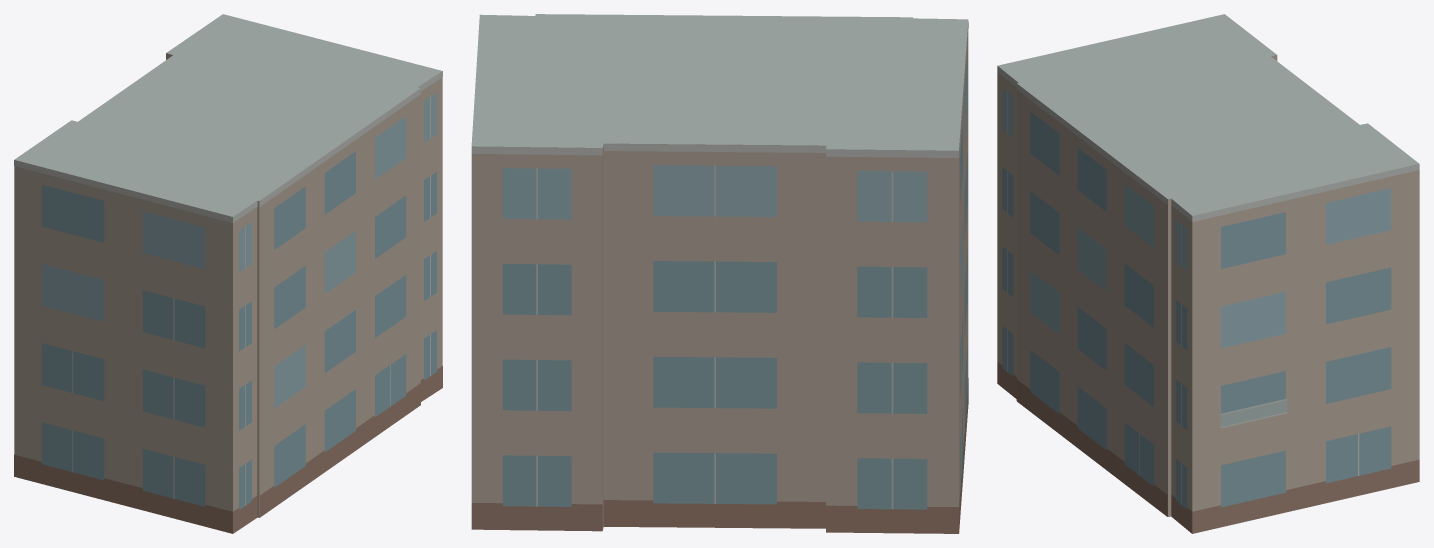
Rendered from survey-upis-32660096.glb.
3 renders of one model, left to right at view 1: azimuth 30°, elevation 25°; view 2: azimuth 150°, elevation 25°; view 3: azimuth 270°, elevation 25°, orthographic. The views are drawn at different scales.
Parts seen in each view (by area): view 1: survey-upis-32660096.tmp; view 2: survey-upis-32660096.tmp; view 3: survey-upis-32660096.tmp.
Part boxes in pixels (left/top/right/bottom): survey-upis-32660096.tmp: left=14, top=14, right=442, bottom=533; survey-upis-32660096.tmp: left=471, top=14, right=968, bottom=533; survey-upis-32660096.tmp: left=997, top=14, right=1419, bottom=533.
Size of the model in its own units: 17.16 by 12.59 by 15.16.
